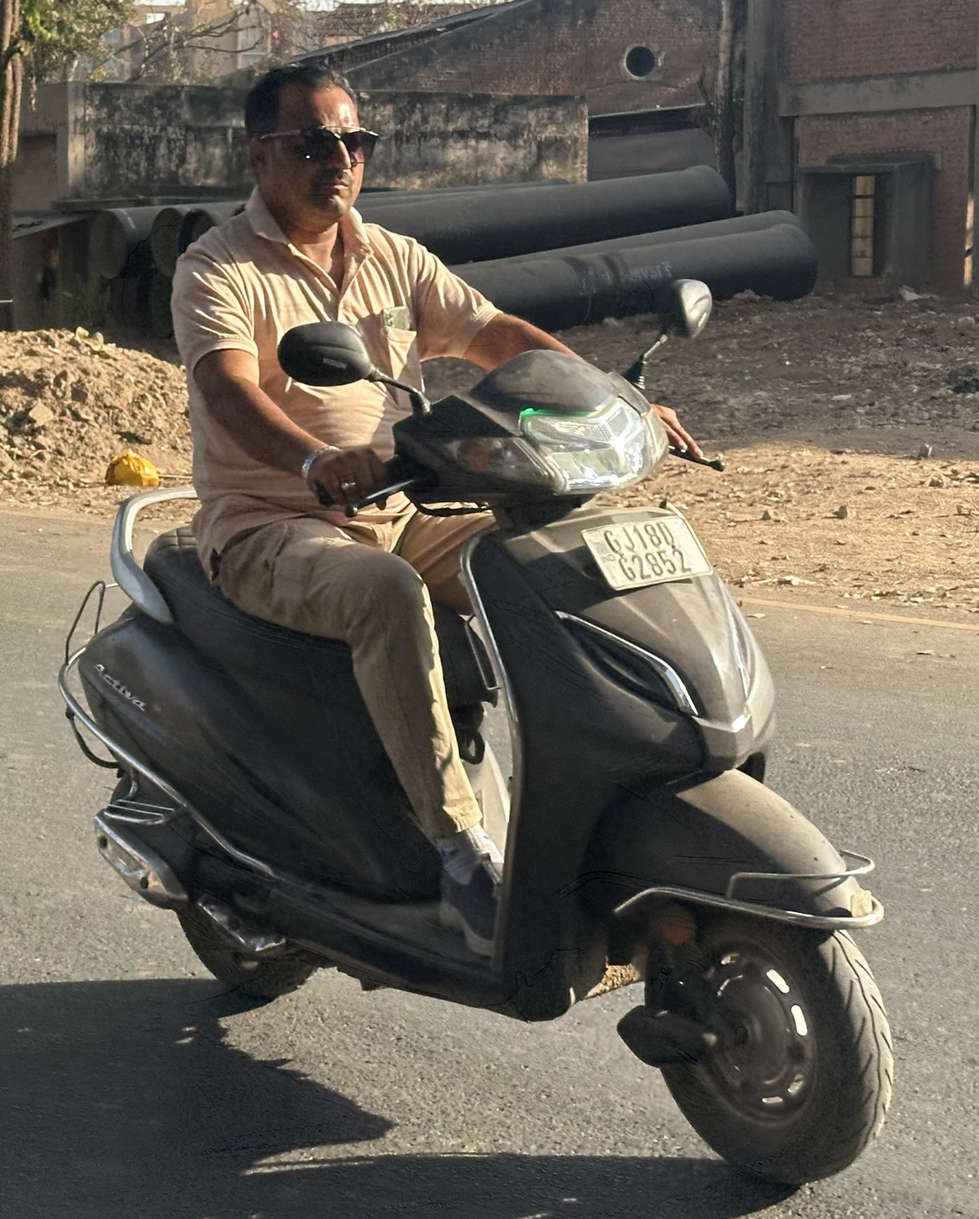BikeWithRider: (225, 51, 391, 234)
Helmet: (43, 44, 913, 1199)
